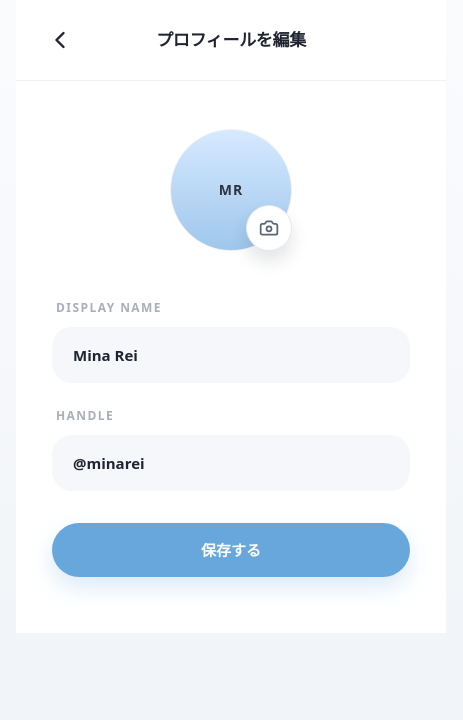
Test: ViewerProfileSettingsPanel › shows the mapped save error when the API rejects the update
Click the button "保存する" at (231, 550), box x1=52 y1=523 x2=410 y2=577
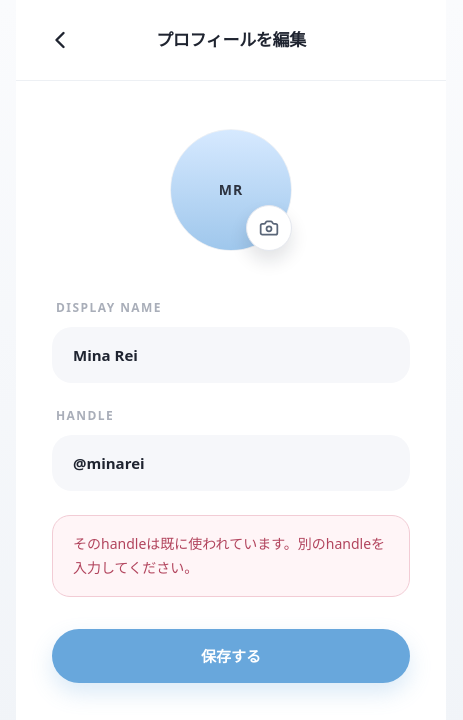
Expected: the message reads "そのhandleは既に使われています。別のhandleを入力してください。", x1=73 y1=534 x2=385 y2=577
